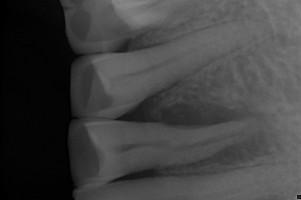Furcation Involvement: (158, 100, 280, 170)
